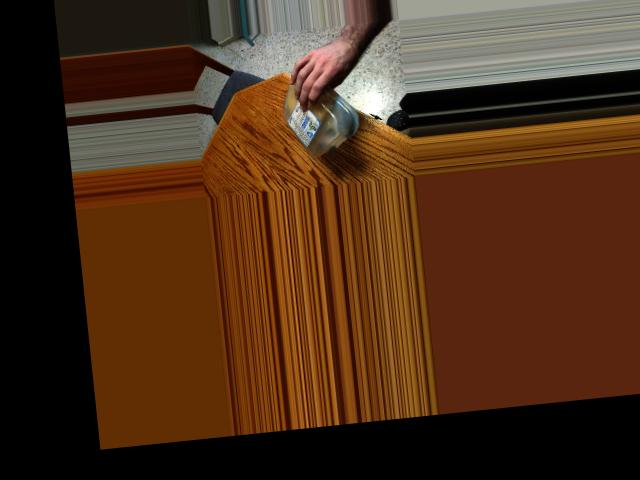cheese: (276, 59, 357, 161)
